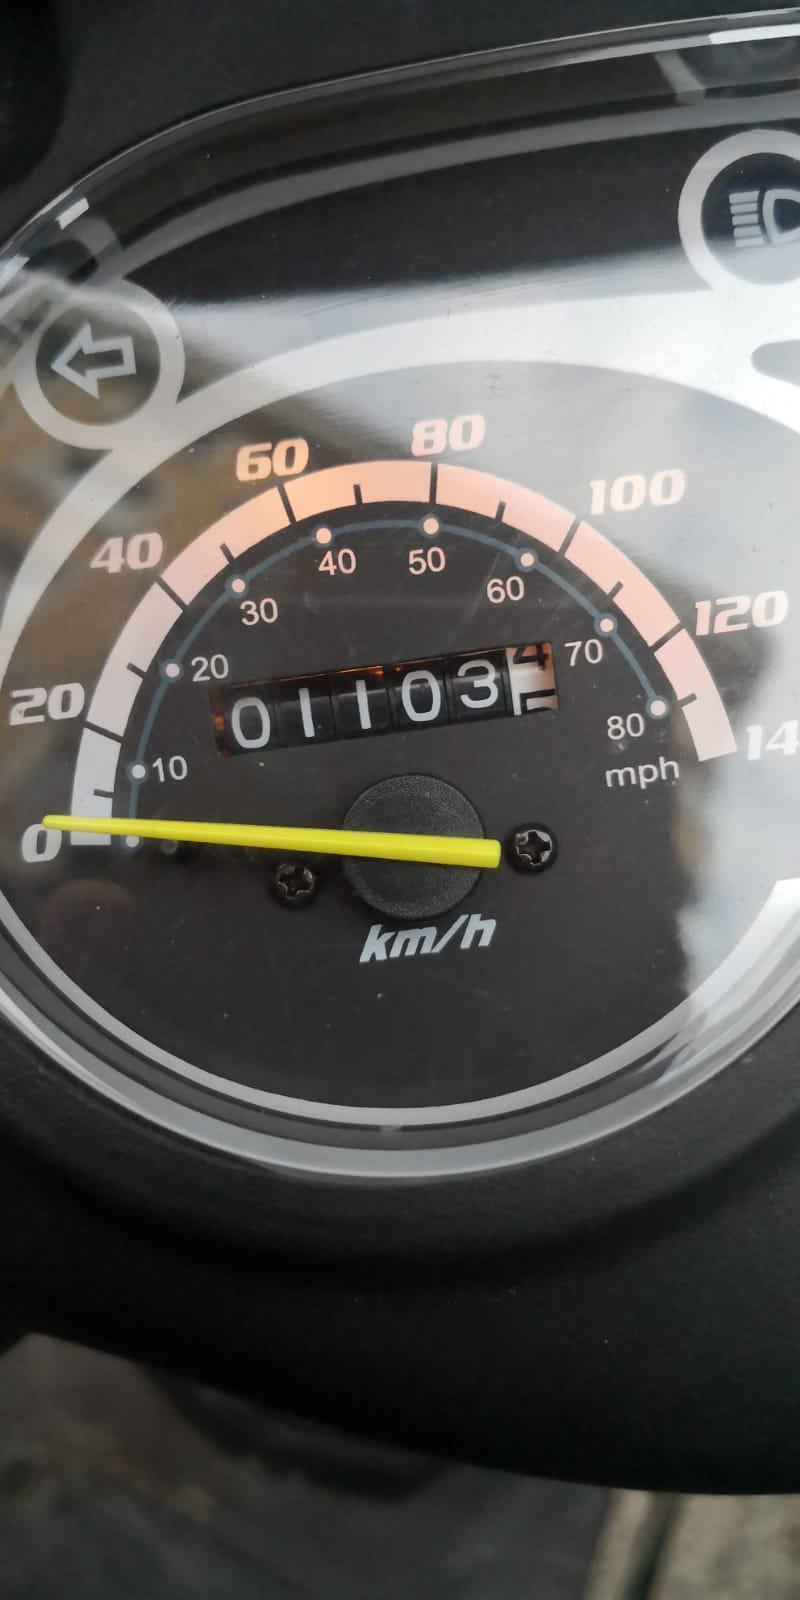0: (228, 694, 274, 754), (396, 668, 446, 724), (210, 649, 231, 681)
1: (291, 681, 321, 740), (350, 676, 377, 734)
3: (456, 656, 500, 712)
4: (510, 633, 553, 678)
odometer: (206, 632, 569, 765)
